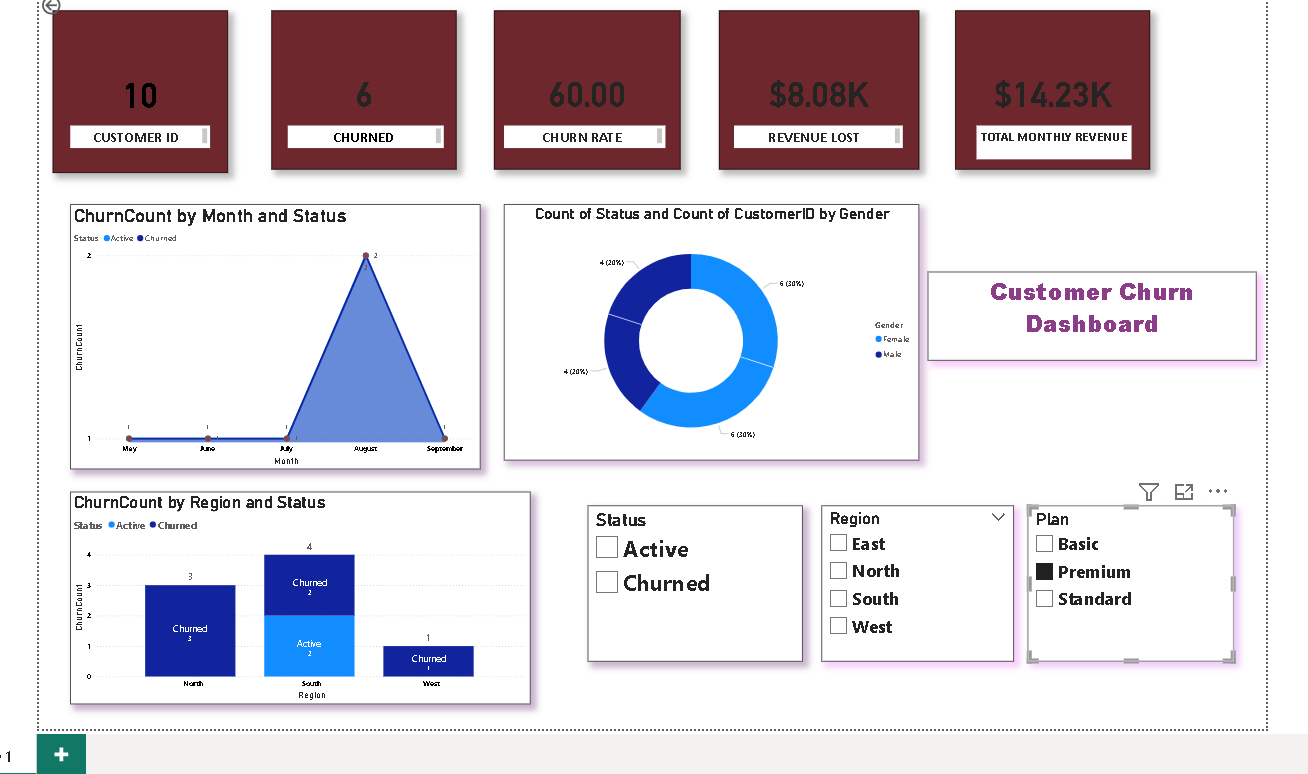

What the dashboard file says about the page in this screenshot:
{"tool":"powerbi","page":{"name":"Page 1","canvas":[2000,1200],"ordinal":0},"visuals":[{"type":"card","fields":{"Values":["Count(Sheet1.CustomerID)"]},"box":[22.4,28.5,285.3,264.9],"z":0},{"type":"card","fields":{"Values":["Count(Sheet1.CustomerID)"]},"box":[379.1,28.5,301.6,258.8],"z":1000},{"type":"actionButton","box":[0,0,100,40],"z":2000},{"type":"card","fields":{"Values":["Sheet1.ChurnRate"]},"box":[741.9,28.5,303.7,258.8],"z":3000},{"type":"card","fields":{"Values":["Sheet1.TotalMonthlyRevenue"]},"box":[1493.9,28.5,317.9,258.8],"z":4000},{"type":"card","fields":{"Values":["Sheet1.RevenueLost"]},"box":[1108.7,28.5,326.1,258.8],"z":5000},{"type":"lineChart","fields":{"Category":["Sheet1.ChurnDate.Variation.Date Hierarchy.Month"],"Y":["Sheet1.ChurnCount"],"Series":["Sheet1.Status"]},"box":[51,344.4,668.5,432.1],"z":6000},{"type":"columnChart","fields":{"Category":["Sheet1.Region"],"Y":["Sheet1.ChurnCount"],"Series":["Sheet1.Status"]},"box":[51,813.2,750,346.5],"z":7000},{"type":"donutChart","fields":{"Category":["Sheet1.Gender"],"Y":["CountNonNull(Sheet1.Status)","CountNonNull(Sheet1.CustomerID)"]},"box":[758.2,344.4,676.6,417.8],"z":8000},{"type":"slicer","fields":{"Values":["Sheet1.Plan"]},"box":[1612.1,835.6,336.3,254.8],"z":9000},{"type":"slicer","fields":{"Values":["Sheet1.Region"]},"box":[1275.8,835.6,313.9,254.8],"z":10000},{"type":"slicer","fields":{"Values":["Sheet1.Status"]},"box":[894.7,835.6,350.5,254.8],"z":11000},{"type":"textbox","box":[1449.1,454.5,536,144.7],"z":11001}]}

Visuals, with their boxes in screenshot pixels (x1, y1, x2, y2):
card - Count(Sheet1.CustomerID): (x1=51, y1=7, x2=226, y2=170)
card - Count(Sheet1.CustomerID): (x1=270, y1=7, x2=455, y2=166)
actionButton: (x1=37, y1=0, x2=99, y2=14)
card - Sheet1.ChurnRate: (x1=492, y1=7, x2=678, y2=166)
card - Sheet1.TotalMonthlyRevenue: (x1=953, y1=7, x2=1148, y2=166)
card - Sheet1.RevenueLost: (x1=717, y1=7, x2=917, y2=166)
lineChart - Sheet1.ChurnDate.Variation.Date Hierarchy.Month x Sheet1.ChurnCount: (x1=69, y1=201, x2=478, y2=466)
columnChart - Sheet1.Region x Sheet1.ChurnCount: (x1=69, y1=488, x2=528, y2=701)
donutChart - Sheet1.Gender x CountNonNull(Sheet1.Status): (x1=502, y1=201, x2=917, y2=457)
slicer - Sheet1.Plan: (x1=1026, y1=502, x2=1232, y2=658)
slicer - Sheet1.Region: (x1=819, y1=502, x2=1012, y2=658)
slicer - Sheet1.Status: (x1=586, y1=502, x2=801, y2=658)
textbox: (x1=926, y1=268, x2=1254, y2=357)
